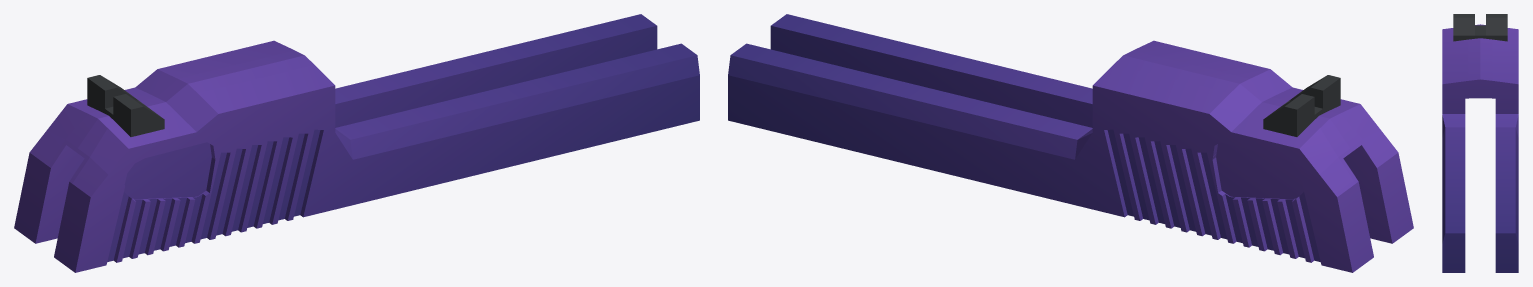
The model's file is Pistol3_04_2.fbx.
3 views of the same model, side by side, from view 1: azimuth 30°, elevation 25°; view 2: azimuth 150°, elevation 25°; view 3: azimuth 270°, elevation 25° (orthographic). The views are drawn at different scales.
Visible parts, largest first — view 1: Pistol3_04_2; view 2: Pistol3_04_2; view 3: Pistol3_04_2.
Part boxes in pixels (left/top/right/bottom): Pistol3_04_2: left=14, top=14, right=699, bottom=272; Pistol3_04_2: left=728, top=14, right=1413, bottom=272; Pistol3_04_2: left=1442, top=14, right=1518, bottom=272.
Size of the model in its own units: 0.2764 by 0.0596 by 0.0469.
